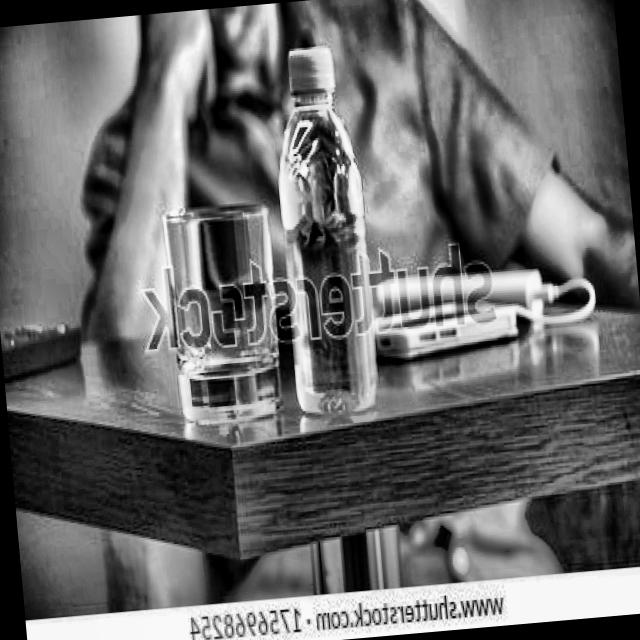waterbottle: (259, 34, 387, 423)
